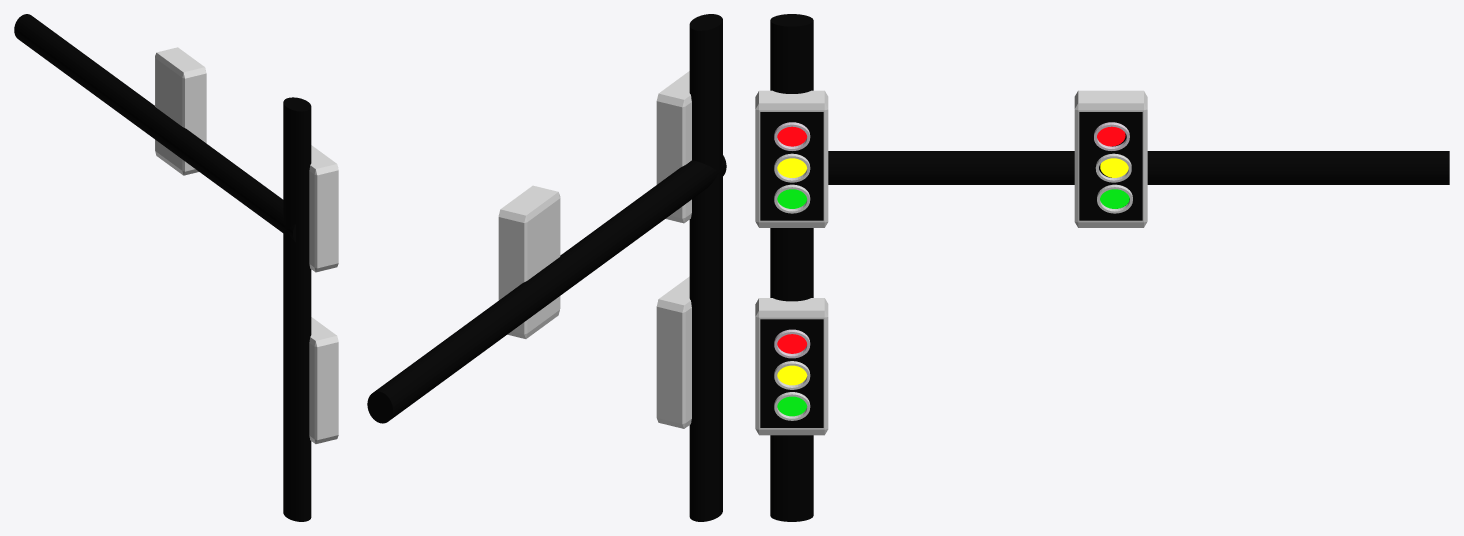
File: CA_traffic_light.fbx
3 views of the same model, side by side, from view 1: azimuth 30°, elevation 25°; view 2: azimuth 150°, elevation 25°; view 3: azimuth 270°, elevation 25° (orthographic). The views are drawn at different scales.
Visible parts, largest first — view 1: Cylinder.001, Cylinder, Cube.003, Cube, Cube.001; view 2: Cylinder.001, Cylinder, Cube.003, Cube, Cube.001; view 3: Cylinder, Cylinder.001, Cube.003, Cube, Cube.001.
Part boxes in pixels (x1,y1,x2,y2): Cylinder.001: (283,97,311,521); Cylinder: (14,14,295,241); Cube.003: (155,47,206,175); Cube: (309,317,338,443); Cube.001: (309,145,338,272); Cylinder.001: (689,14,722,521); Cylinder: (367,155,726,423); Cube.003: (498,185,560,338); Cube: (656,276,691,428); Cube.001: (656,71,691,223); Cylinder: (828,151,1449,184); Cylinder.001: (770,14,813,521); Cube.003: (1074,90,1147,227); Cube: (755,298,828,435); Cube.001: (755,90,828,227).
Bounding box in the file's own units: 7.1 × 65.62 × 83.33.
